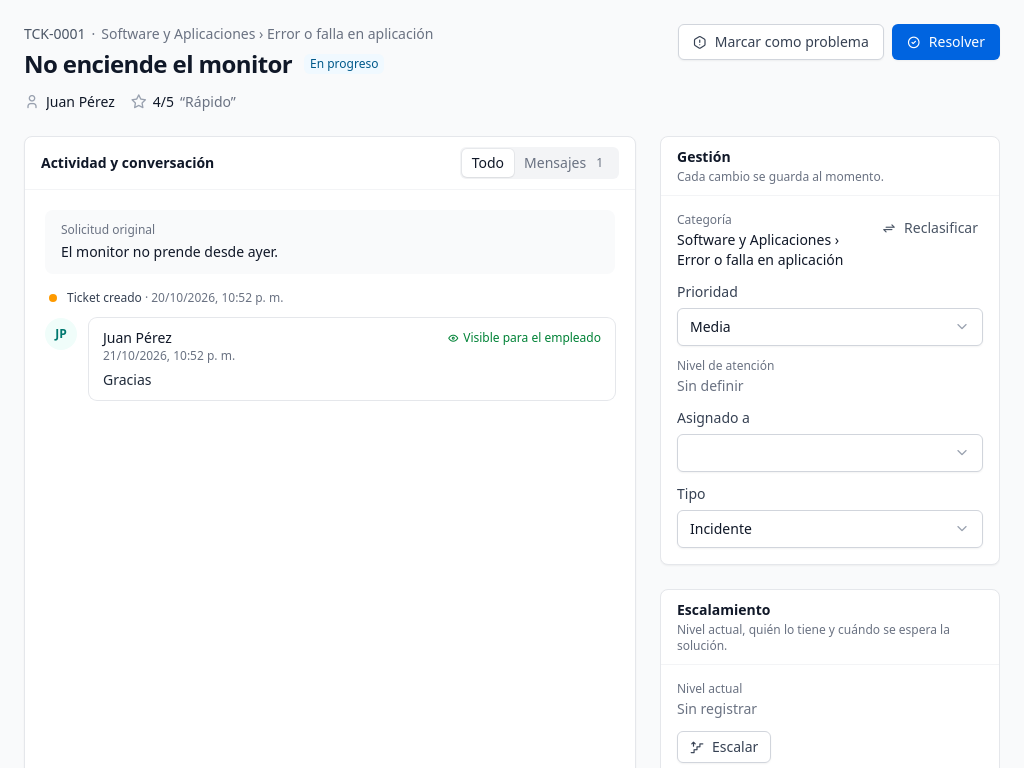
Test: TicketDetalleView.vue — reclasificar la categoría (119) › un técnico con el módulo tickets reclasifica un ticket en curso y la ficha muestra la categoría nueva
The image size is (1024, 768).
Expected: the element that starts with "Categoría" shows "Software y Aplicaciones › Error o falla en aplicación", [677,230,843,269]
Click the button "Reclasificar" at (930, 228), box [869,212,991,244]
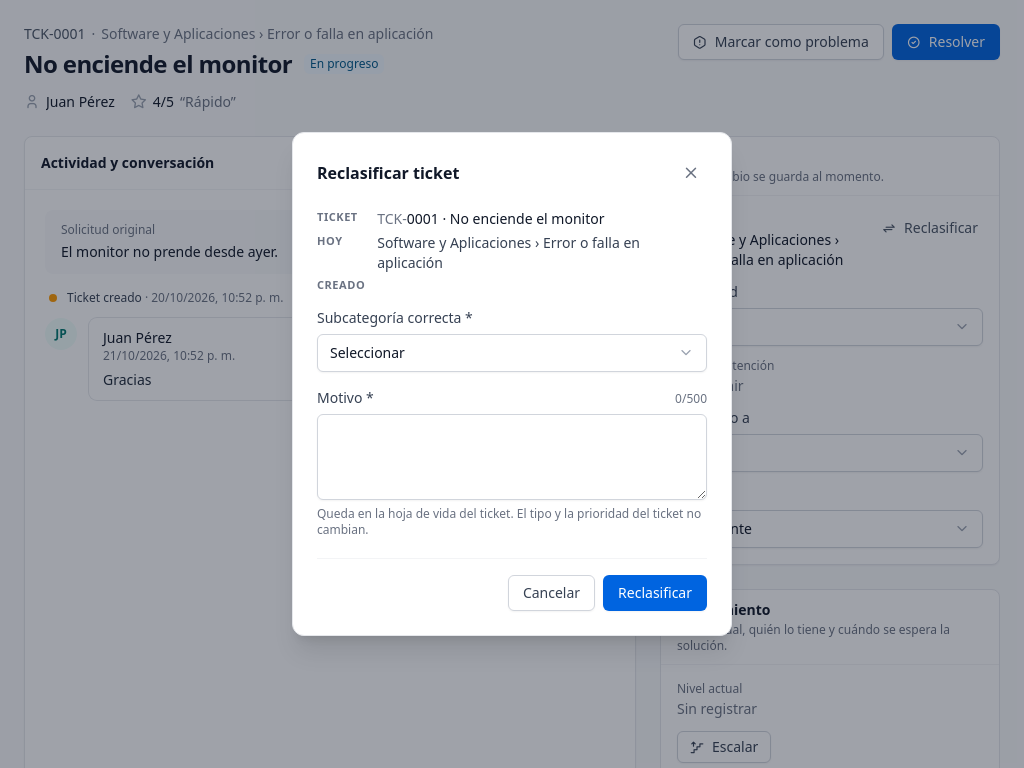
Expected: the dialog shows "Reclasificar ticket", [317,162,459,184]
Expected: the dialog shows "Software y Aplicaciones › Error o falla en aplicación", [377,232,640,272]
Select "Solicitar permisos o accesos (sistemas / carpetas)" in the dropdown labelled "Subcategoría correcta *" at (512, 353), box [318,335,706,371]
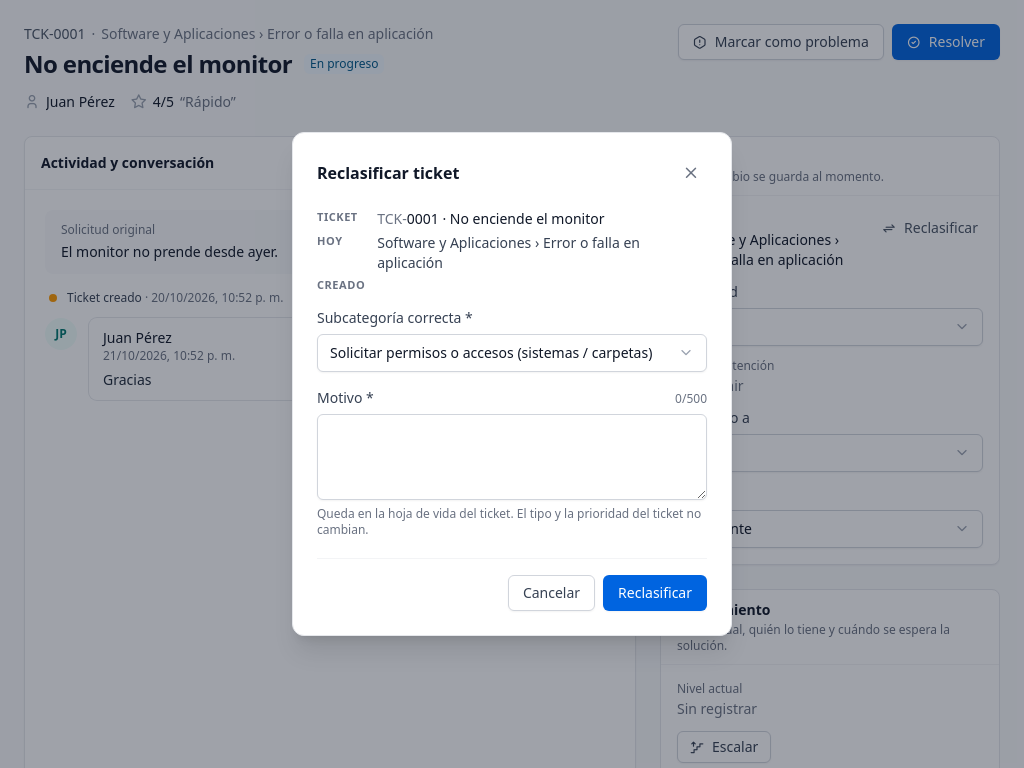
Type "No es una falla: le faltan permisos en la carpeta" into the text box labelled "Motivo * 0/500" at (512, 457), box [318,415,706,500]
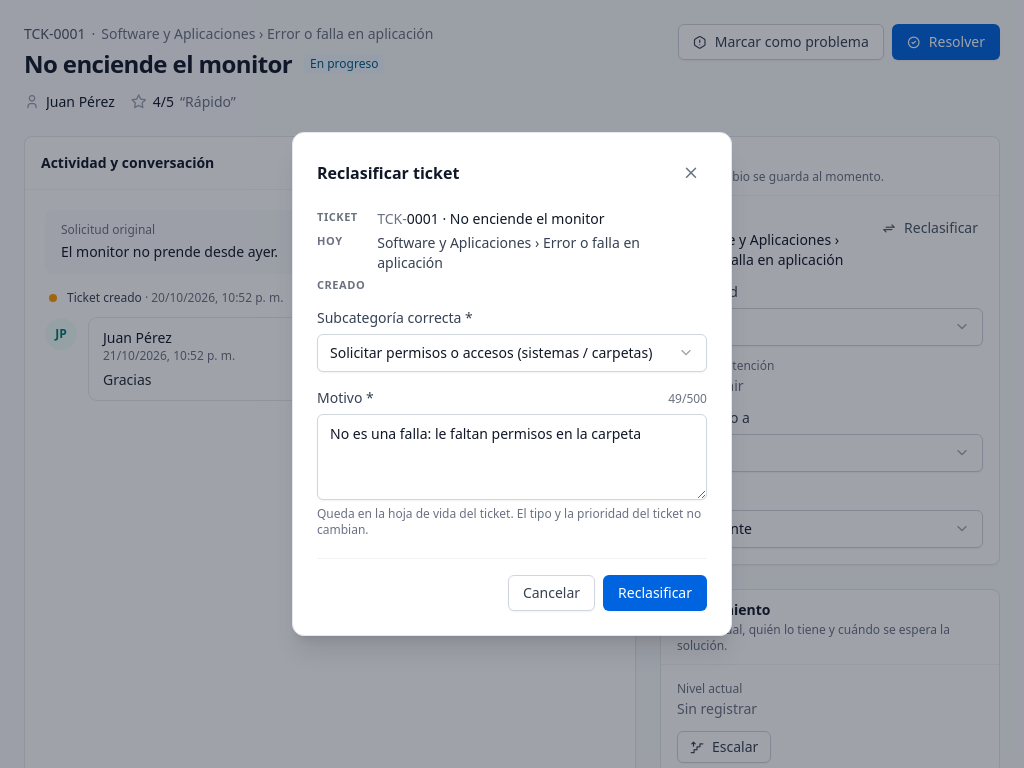
Click the button "Reclasificar" at (655, 594), box [603,576,707,612]
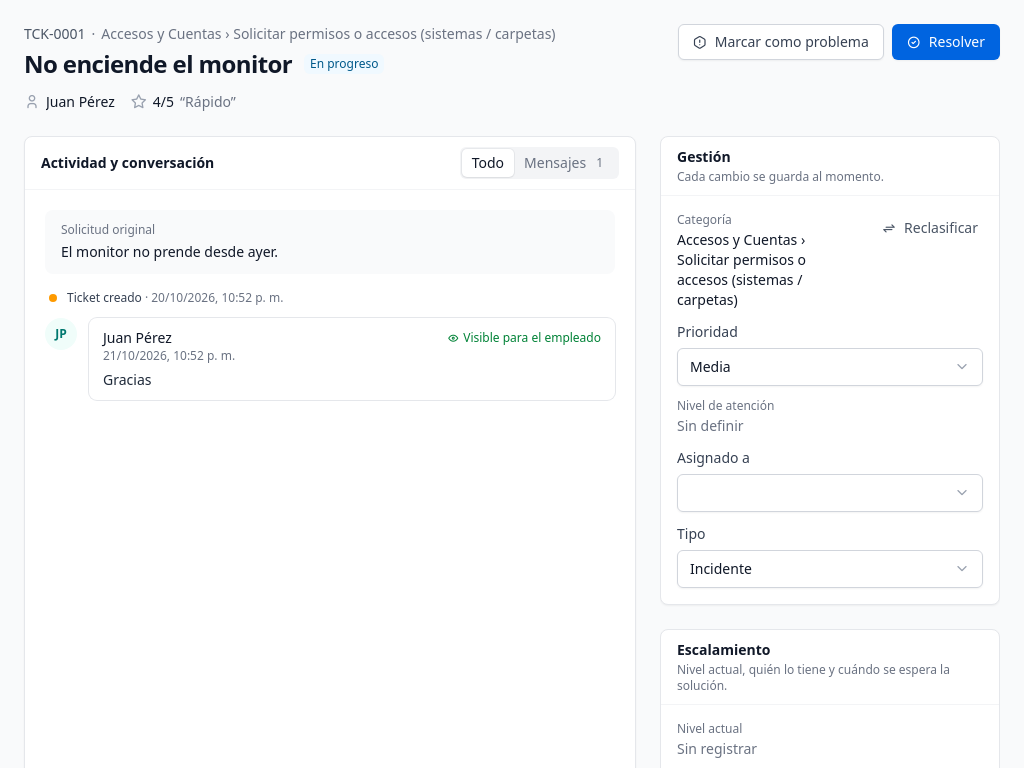
Expected: the element that starts with "Categoría" shows "Accesos y Cuentas › Solicitar permisos o accesos", [677,230,806,309]
